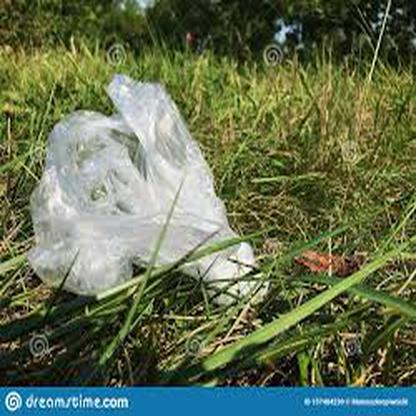plastic bag: (31, 74, 261, 296)
